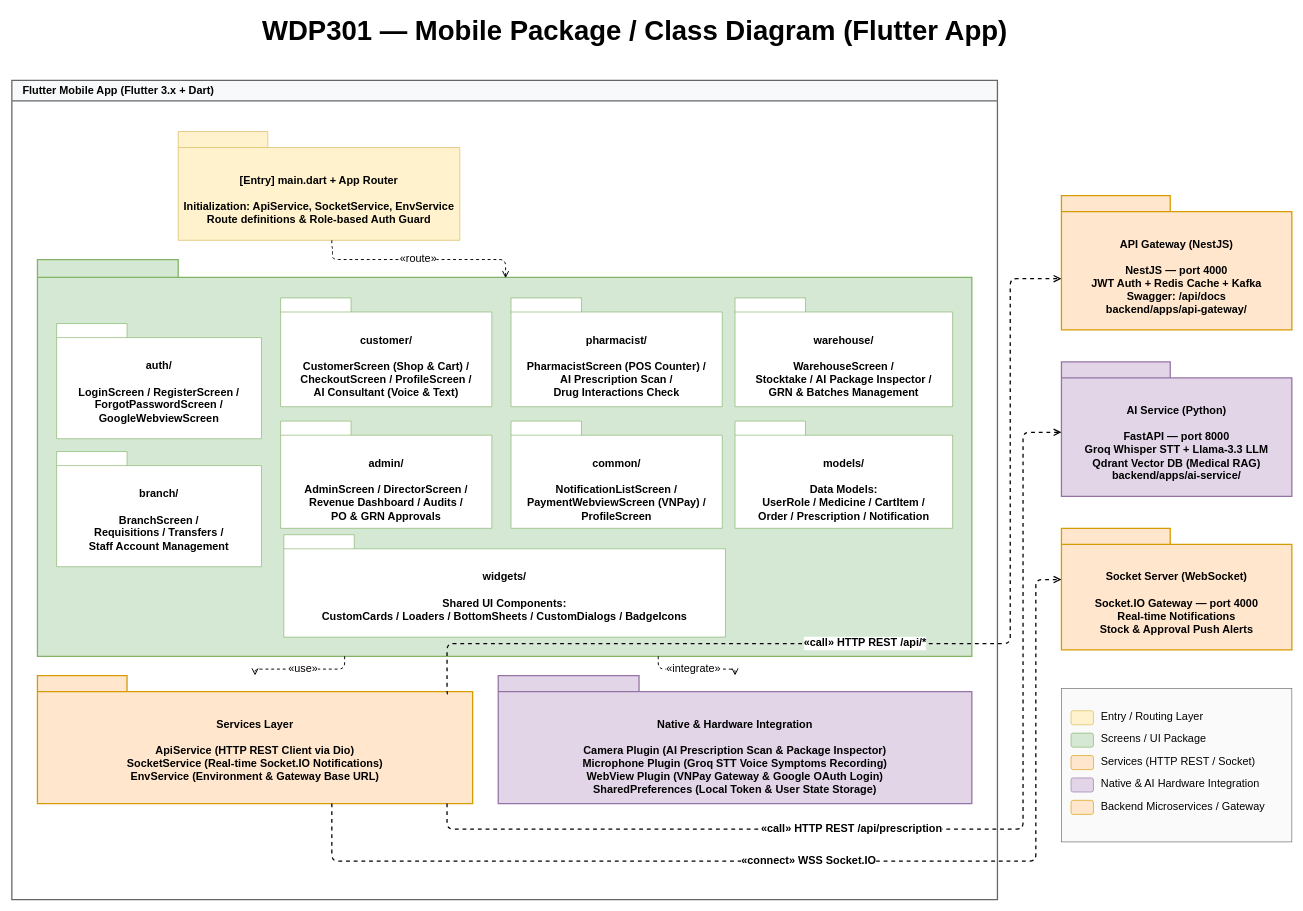
Some shapes in this 1303 by 911 pixel diagram are drawn without their labels. The shapes that lost their labels are listed below. From the top down, each one's box as (x1, y1, x2, y2) in pixels, then its label:
(36, 259, 972, 657): Pages & Views (by Role)
(1061, 688, 1292, 842): Legend
